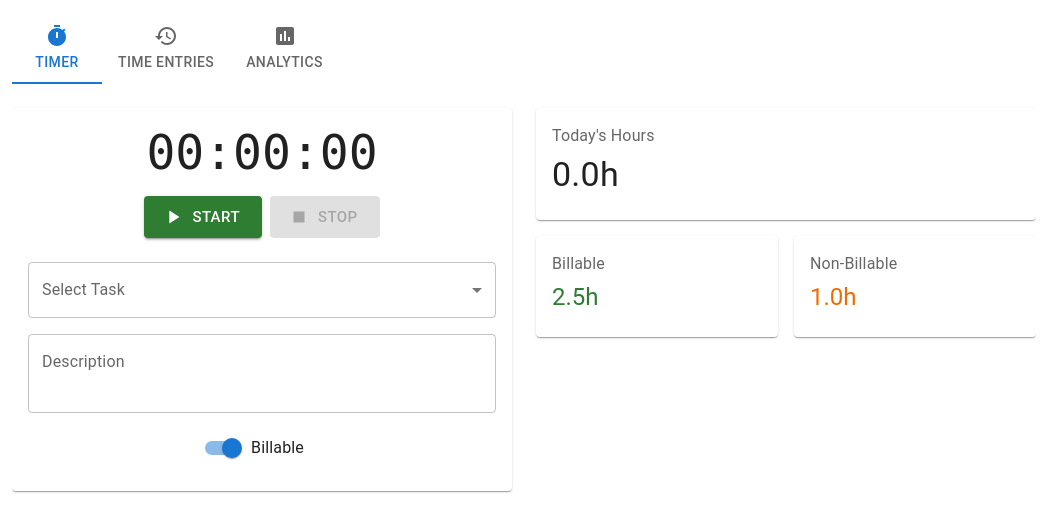
Scenario: TimeTracker › displays time entries in the time entries tab
The image size is (1048, 510).
// Switch to time entries tab
Step 1. Click the tab "Time Entries" → coordinates (166, 48), box [102,12,230,84]
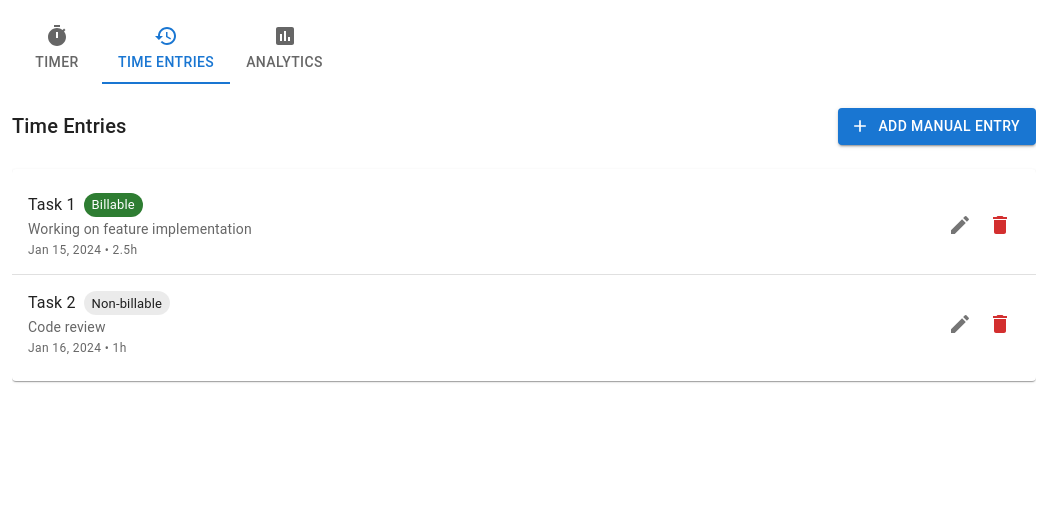
Expected: the heading "Task 1" is shown, [28,190,76,218]
Expected: the heading "Task 2" is shown, [28,289,76,317]
Expected: the text "Working on feature implementation" is shown, [28,220,252,236]
